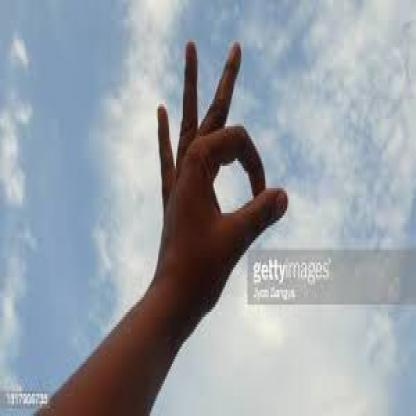ok: (150, 37, 288, 307)
